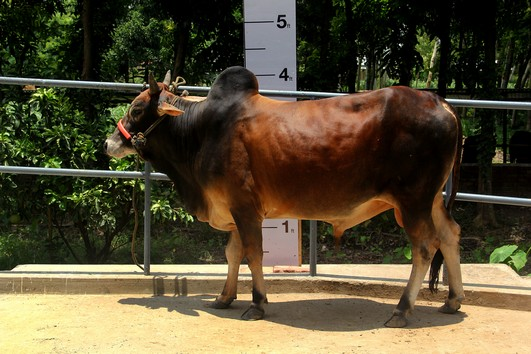cow: (95, 61, 480, 334)
